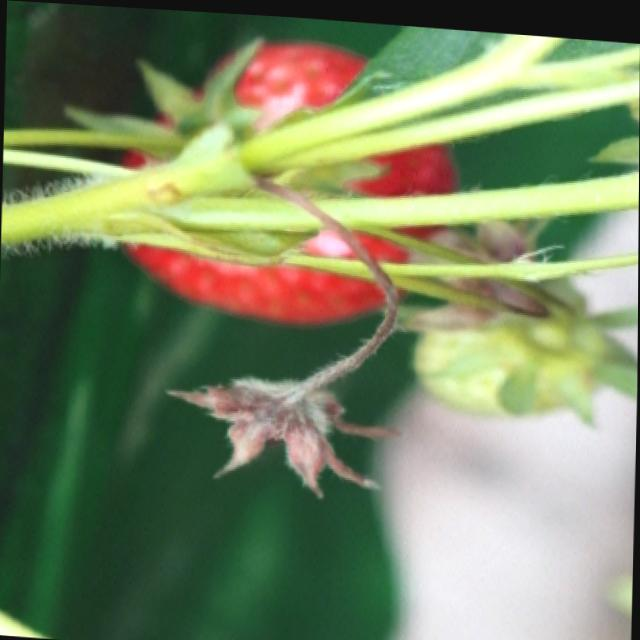Gray Mold: (164, 358, 401, 496)
